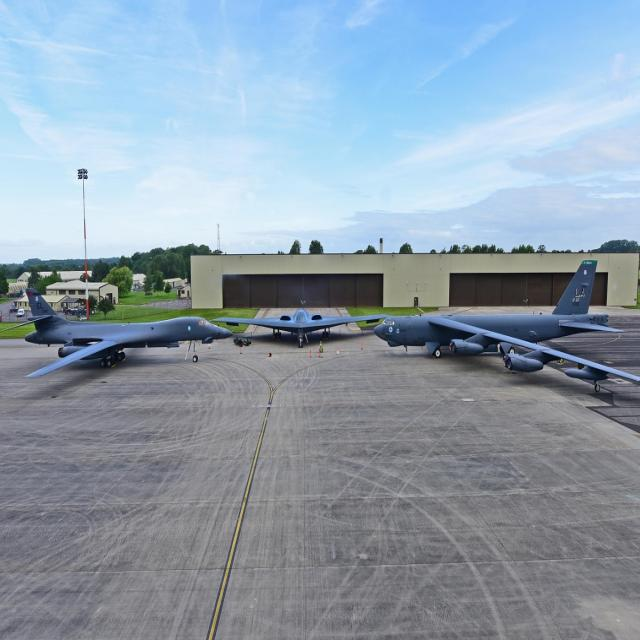MIL_Plane: (0, 281, 233, 372), (469, 260, 544, 392), (209, 308, 390, 347)
